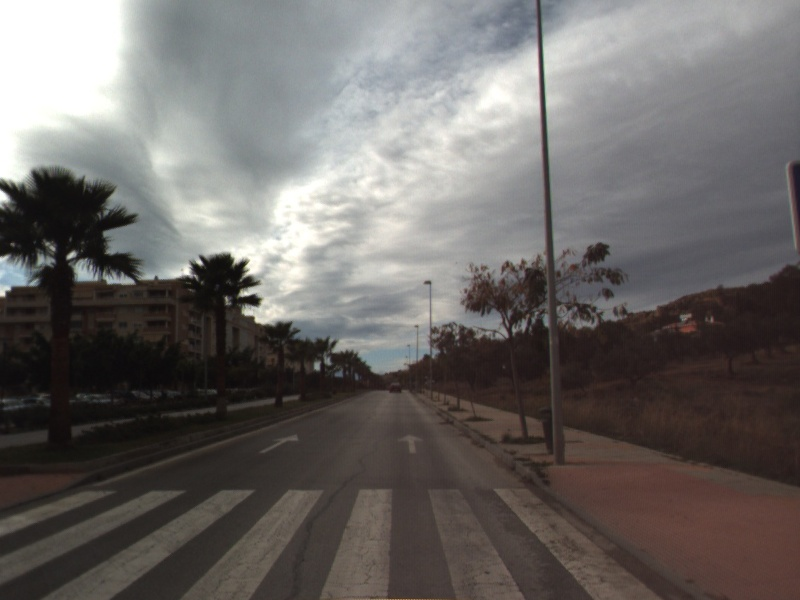STRAIGHT: (257, 432, 300, 455), (396, 432, 426, 455)
